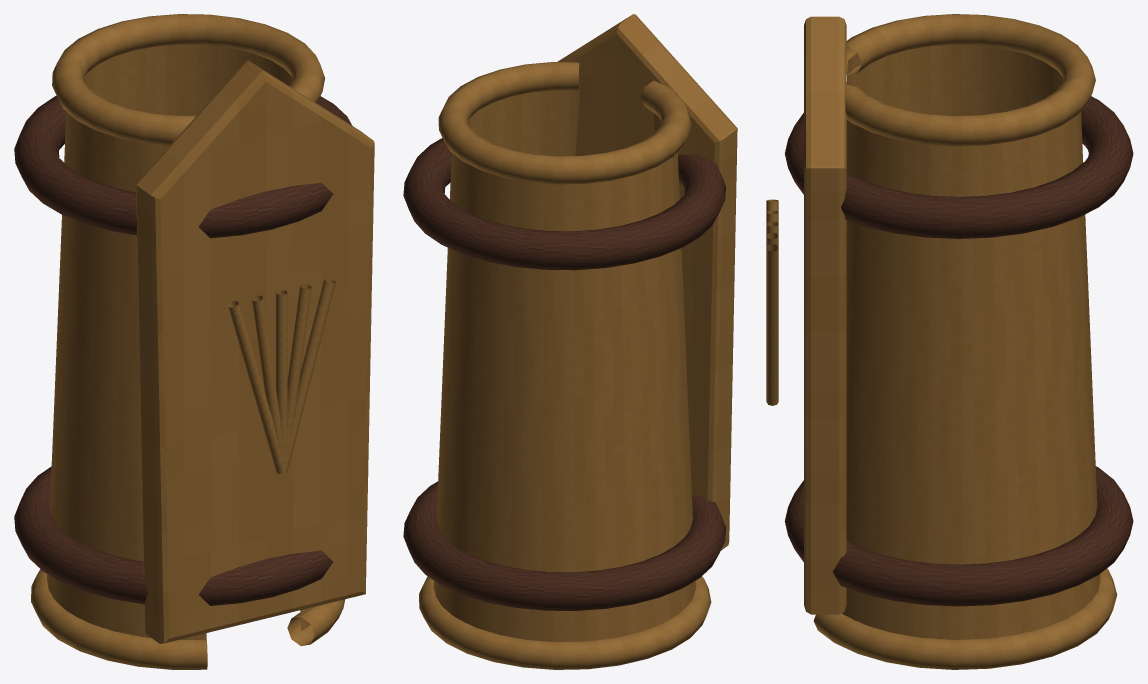
The picture shows the model from 3 angles, left to right: view 1: azimuth 30°, elevation 25°; view 2: azimuth 150°, elevation 25°; view 3: azimuth 270°, elevation 25°; orthographic projection. The views are drawn at different scales.
Parts seen in each view (by area): view 1: brass.5, brass.0, brass.2, leather.4, leather.3, brass.1, brass.6, brass.10, brass.9, brass.8, brass.7; view 2: brass.0, brass.5, leather.4, leather.3, brass.2, brass.1; view 3: brass.0, brass.5, brass.2, leather.4, leather.3, brass.1, brass.10.
Boxes of the visible parts, <box> form: brass.5: <box>136,60,374,643</box>; brass.0: <box>47,44,314,639</box>; brass.2: <box>52,14,325,145</box>; leather.4: <box>14,95,352,238</box>; leather.3: <box>14,466,333,605</box>; brass.1: <box>31,569,345,669</box>; brass.6: <box>227,301,284,473</box>; brass.10: <box>285,278,335,472</box>; brass.9: <box>284,284,311,471</box>; brass.8: <box>275,290,287,470</box>; brass.7: <box>251,295,284,471</box>; brass.0: <box>433,76,695,642</box>; brass.5: <box>557,14,737,550</box>; leather.4: <box>403,138,725,270</box>; leather.3: <box>403,481,725,610</box>; brass.2: <box>438,62,691,184</box>; brass.1: <box>419,576,711,669</box>; brass.0: <box>842,44,1100,639</box>; brass.5: <box>804,16,846,614</box>; brass.2: <box>845,14,1095,146</box>; leather.4: <box>784,96,1133,238</box>; leather.3: <box>784,466,1133,606</box>; brass.1: <box>813,568,1117,669</box>; brass.10: <box>766,244,778,405</box>.
Bounding box in the file's own units: 0.172 × 0.3226 × 0.181.
Materials: 2 (2 with a texture image).
